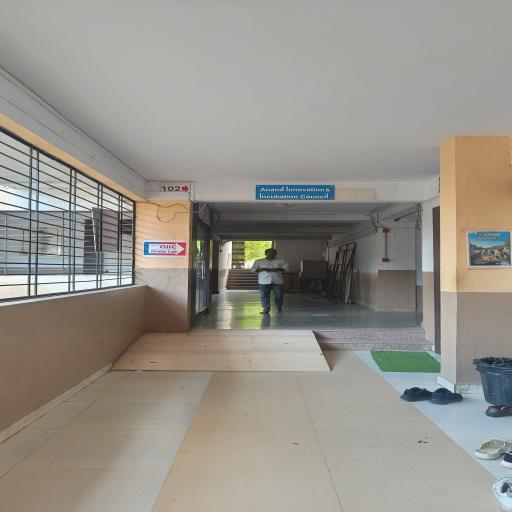survivor: (249, 248, 290, 314)
